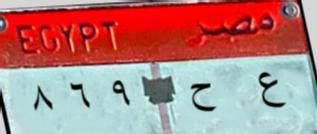6: (66, 80, 92, 115)
7aa: (186, 78, 221, 116)
8: (31, 83, 55, 118)
9: (109, 79, 133, 110)
ain: (256, 67, 287, 113)
